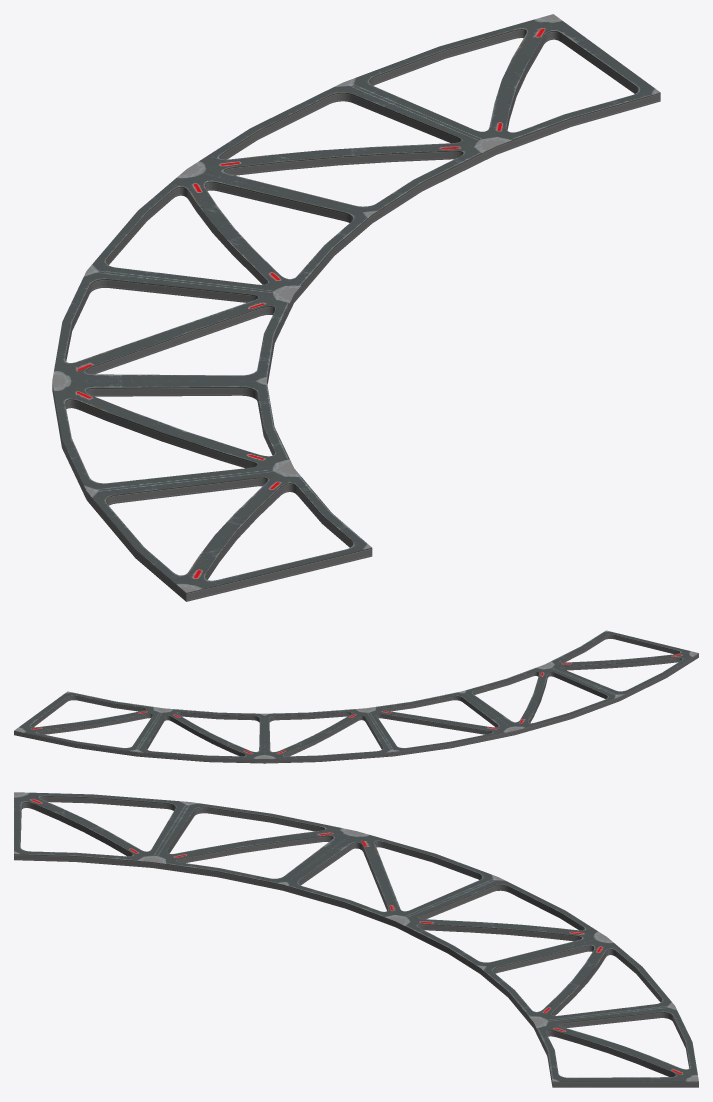
The model's file is Column MetalSupport Curve.glb.
3 views of the same model, one above another, from view 1: azimuth 30°, elevation 25°; view 2: azimuth 150°, elevation 25°; view 3: azimuth 270°, elevation 25° (orthographic). The views are drawn at different scales.
Parts seen in each view (by area): view 1: Column_MetalSupport_Curve; view 2: Column_MetalSupport_Curve; view 3: Column_MetalSupport_Curve.
Part boxes in pixels (left/top/right/bottom): Column_MetalSupport_Curve: left=52, top=14, right=660, bottom=601; Column_MetalSupport_Curve: left=14, top=630, right=698, bottom=763; Column_MetalSupport_Curve: left=14, top=792, right=698, bottom=1087.
Size of the model in its own units: 4.47 by 0.044 by 4.47.
Materials: 2 (2 with a texture image).
